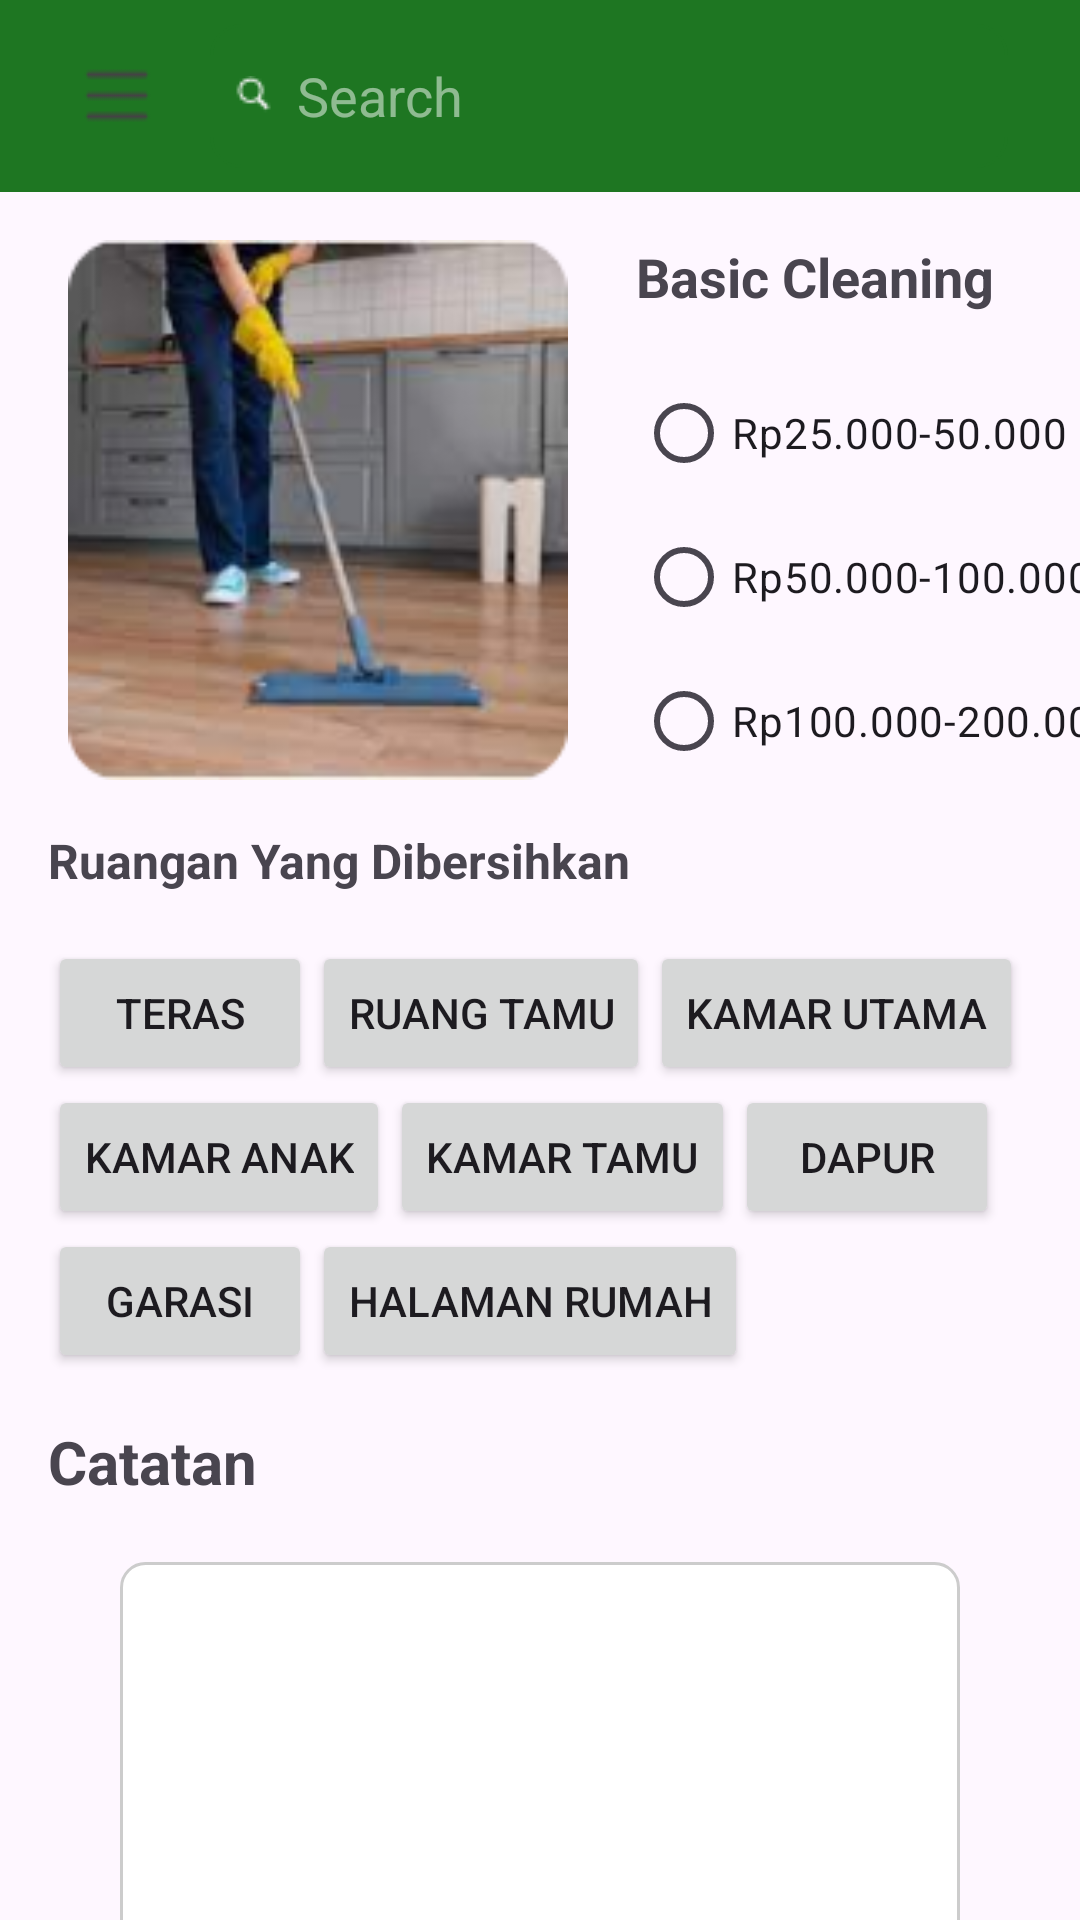

Where icons sit on this 1080w x 1920h app screen, as (x1=x1, y1=y1, x2=x2, y2=y2):
menu: (x1=87, y1=72, x2=147, y2=119)
